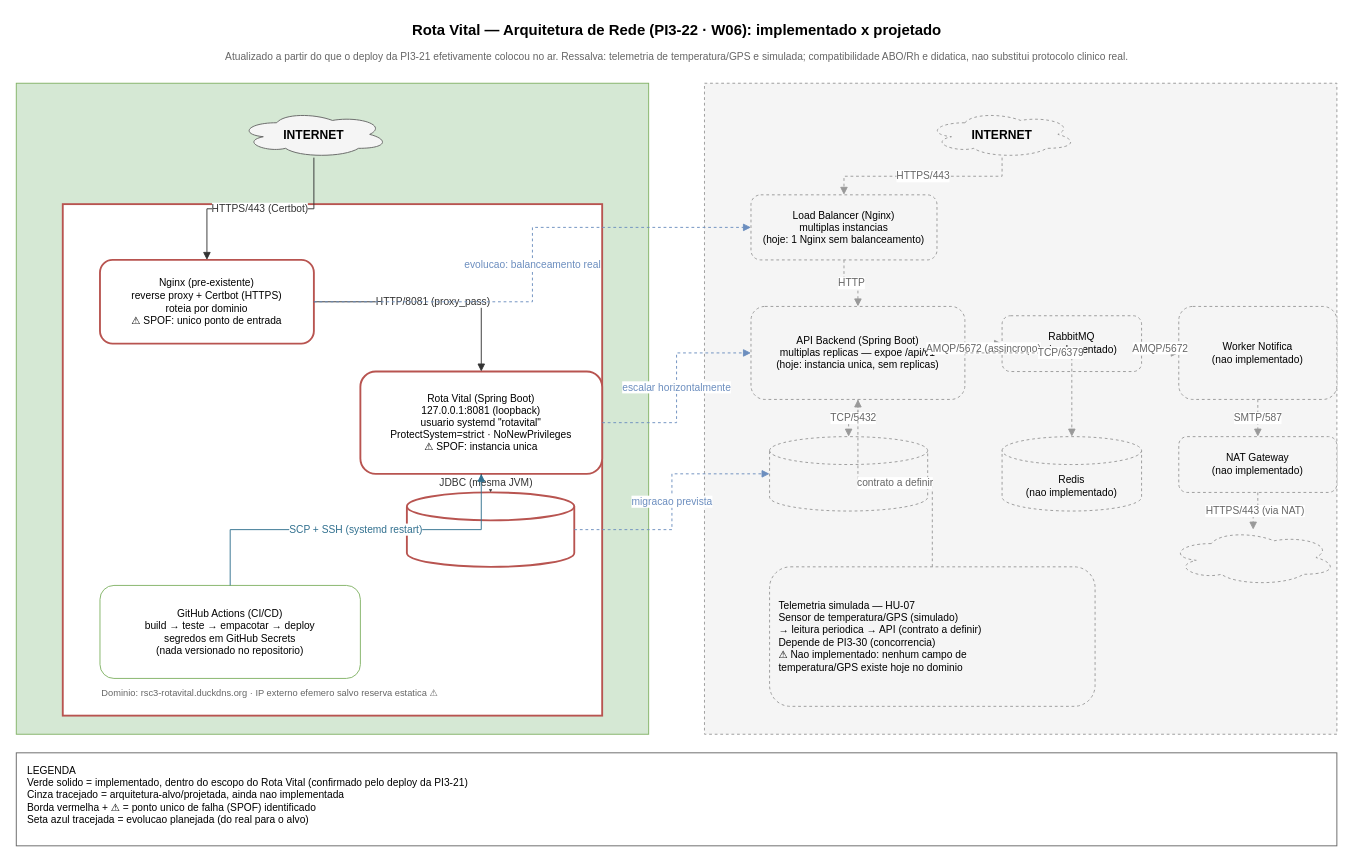
Some shapes in this 1353 by 862 pixel diagram are drawn without their labels. Here are the shapes that lost their labels. From the top down, the box of each, then its label:
(15, 82, 649, 734): IMPLEMENTADO — em producao desde a PI3-21
(704, 82, 1337, 734): PROJETADO — arquitetura-alvo (nao implementada)
(61, 203, 603, 716): VM compartilhada (GCP us-west1-a) — ⚠ SPOF: hospeda Nginx + Rota Vital
(769, 436, 928, 511): PostgreSQL previsto para a Entrega 02
(405, 491, 575, 567): H2 (em memoria) embutido no processo ⚠ SPOF de dados: reinicio = perda
(1169, 529, 1337, 585): Servidor de e-mail (externo) (nao implementado)
